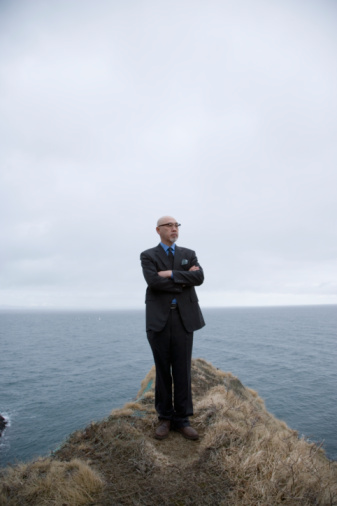em pe: (129, 206, 199, 432)
